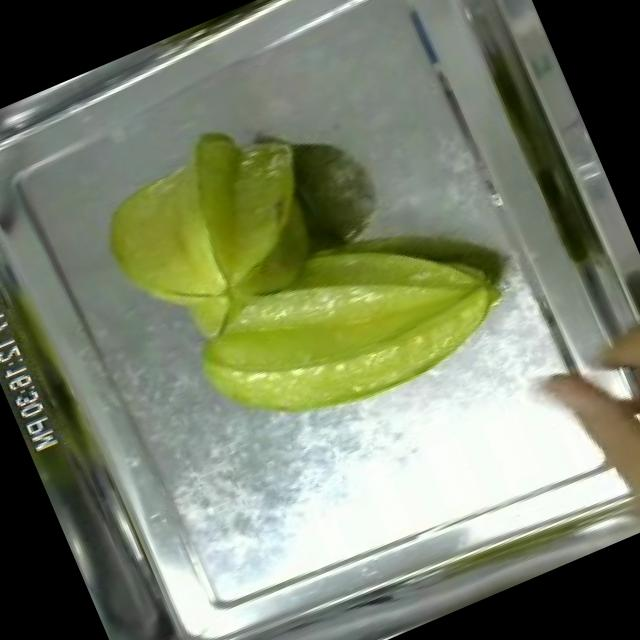fruit: (161, 174, 532, 470), (67, 96, 351, 345)
